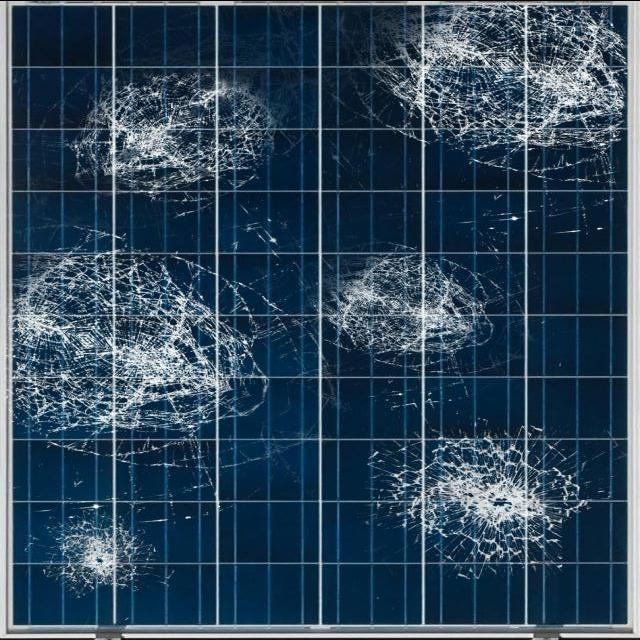cracked: (7, 1, 627, 631)
